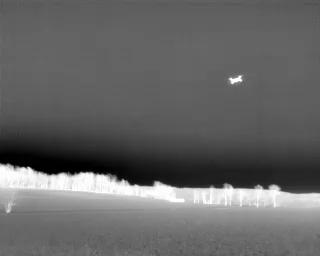DRONE: (225, 70, 247, 89)
